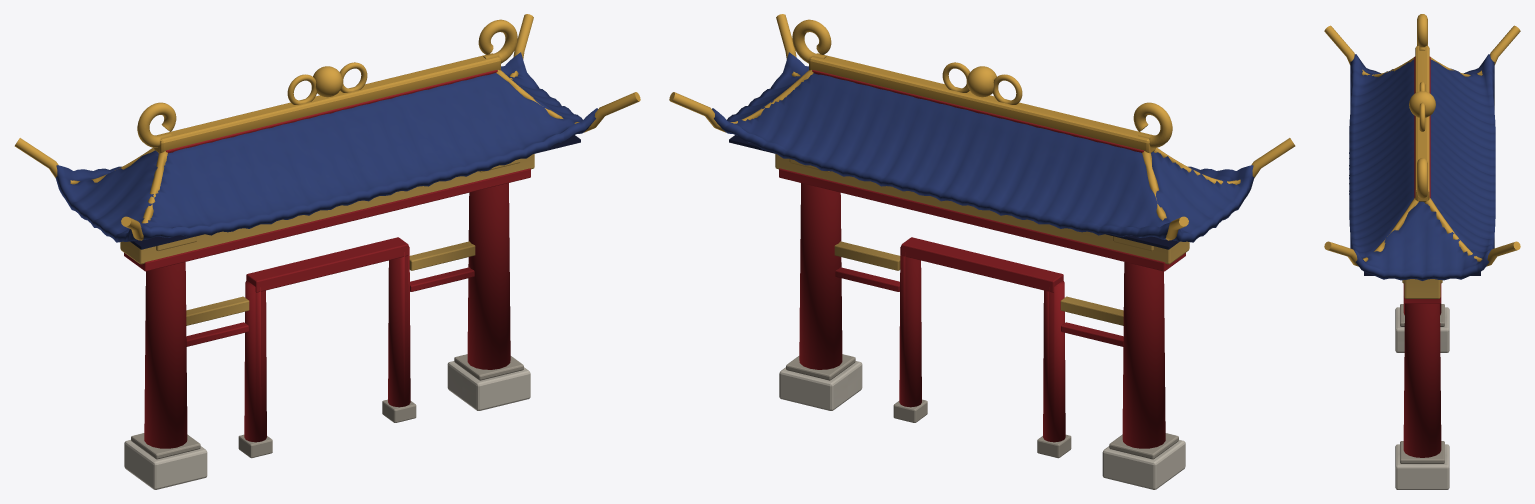
The model's file is gate.glb.
The picture shows the model from 3 angles, left to right: view 1: azimuth 30°, elevation 25°; view 2: azimuth 150°, elevation 25°; view 3: azimuth 270°, elevation 25°; orthographic projection. The views are drawn at different scales.
Visible parts, largest first — view 1: gate-shell; view 2: gate-shell; view 3: gate-shell.
Boxes of the visible parts, <box> form: gate-shell: <box>14,14,640,489</box>; gate-shell: <box>669,14,1295,489</box>; gate-shell: <box>1324,14,1520,489</box>.
Bounding box in the file's own units: 11.56 × 7.91 × 4.36.
